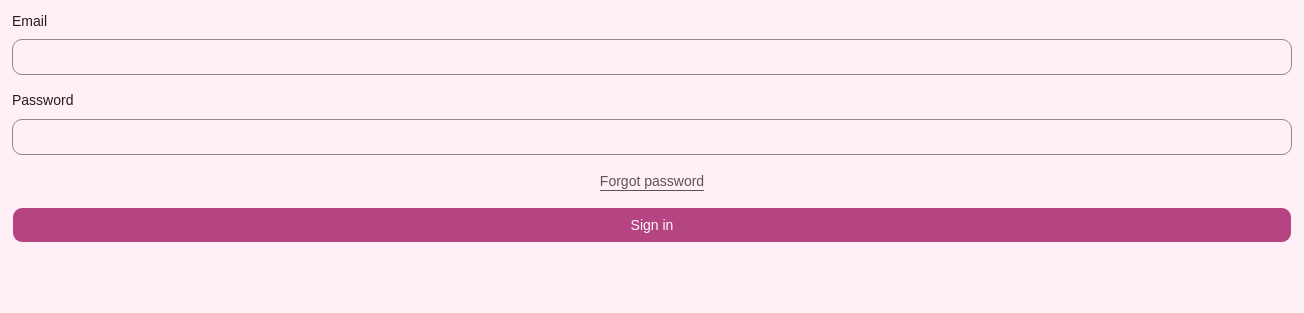
Test: SignInForm › flags only the empty field
Type "dev-a@example.test" into the field labelled "Email" at (652, 57), box [12,39,1292,75]
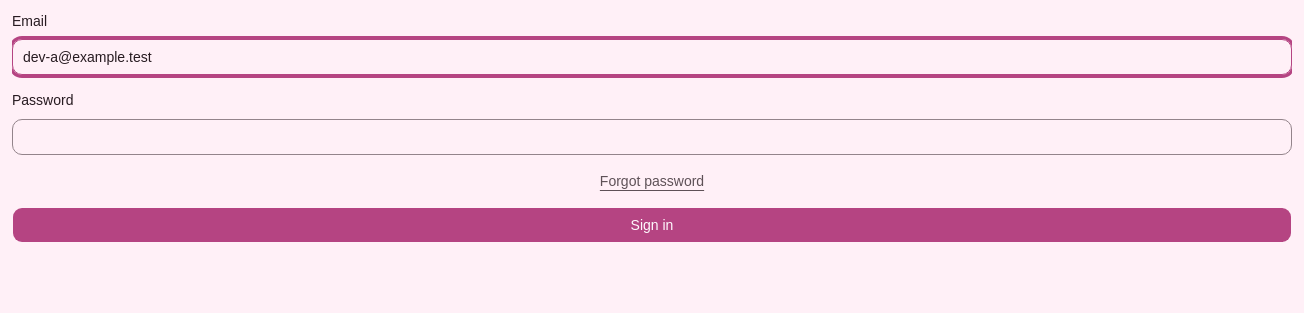
Click the button "Sign in" at (652, 224), box [12,206,1292,242]
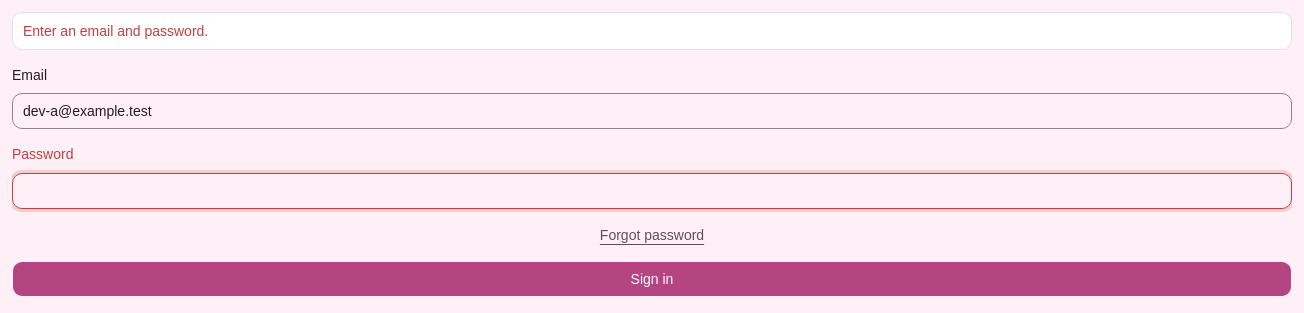
Expected: the message "Enter an email and password." is shown, [12,12,1292,50]
